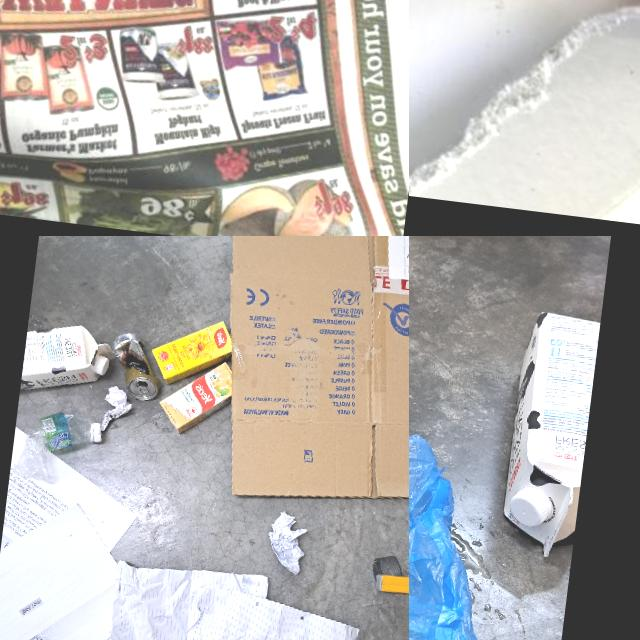aba de lata: (137, 384, 150, 396)
caixinha: (498, 311, 602, 558), (19, 318, 112, 406), (156, 354, 238, 439), (148, 313, 235, 390)
lata: (105, 330, 162, 400)
papel: (0, 0, 409, 236), (409, 0, 640, 236), (0, 415, 145, 640), (99, 558, 367, 640), (264, 504, 317, 576), (98, 384, 134, 432)
papelão: (198, 236, 409, 532)
sacola plástica: (409, 396, 503, 640)
tampa plástica: (510, 486, 554, 527), (90, 352, 108, 377), (89, 422, 103, 442)
